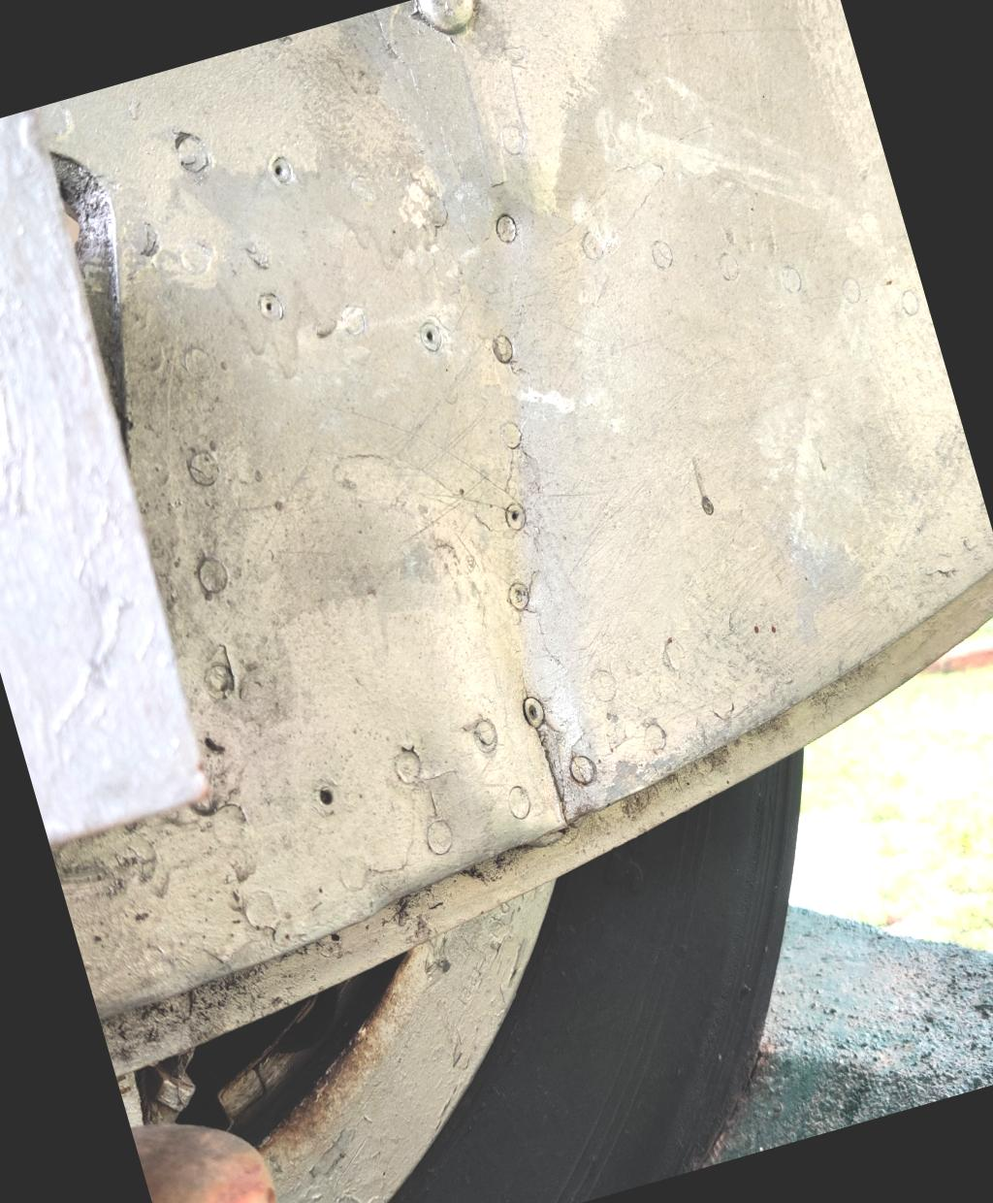crack: (492, 691, 613, 839)
